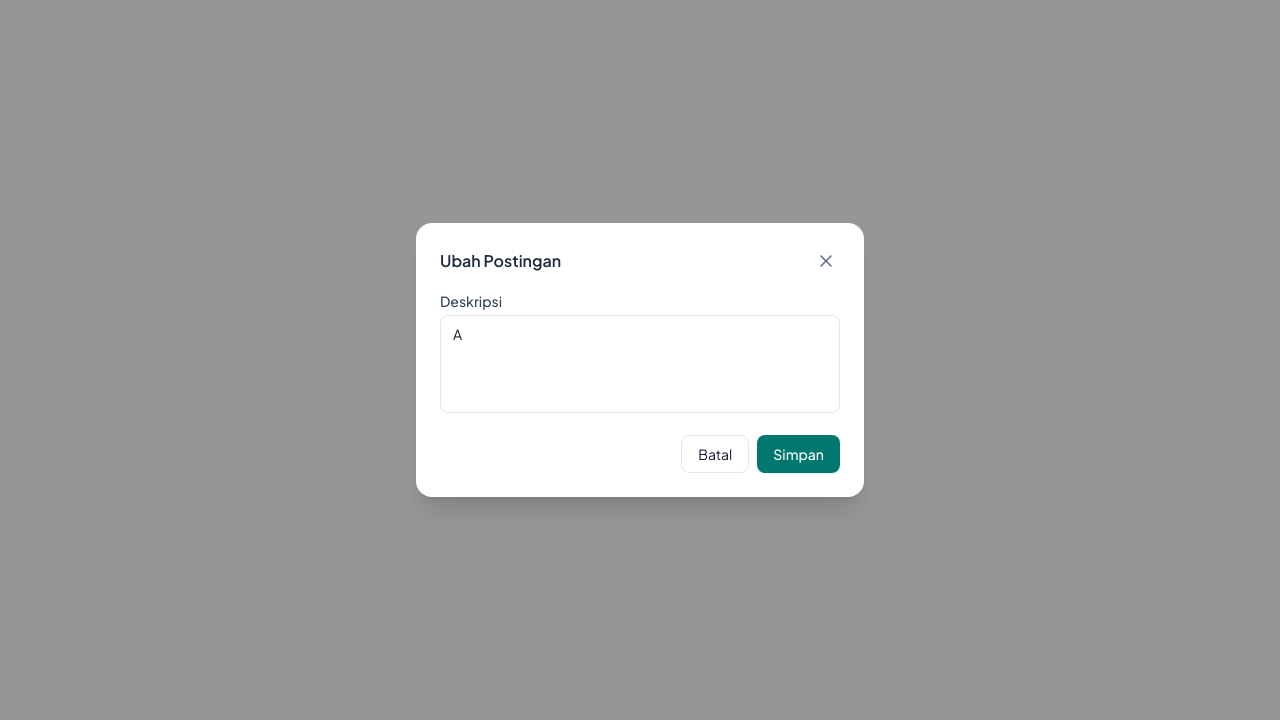
Test: ChangeModal › textarea dapat diedit
The image size is (1280, 720).
Type "BC" into the text box at x=640, y=364, box [440, 315, 840, 413]
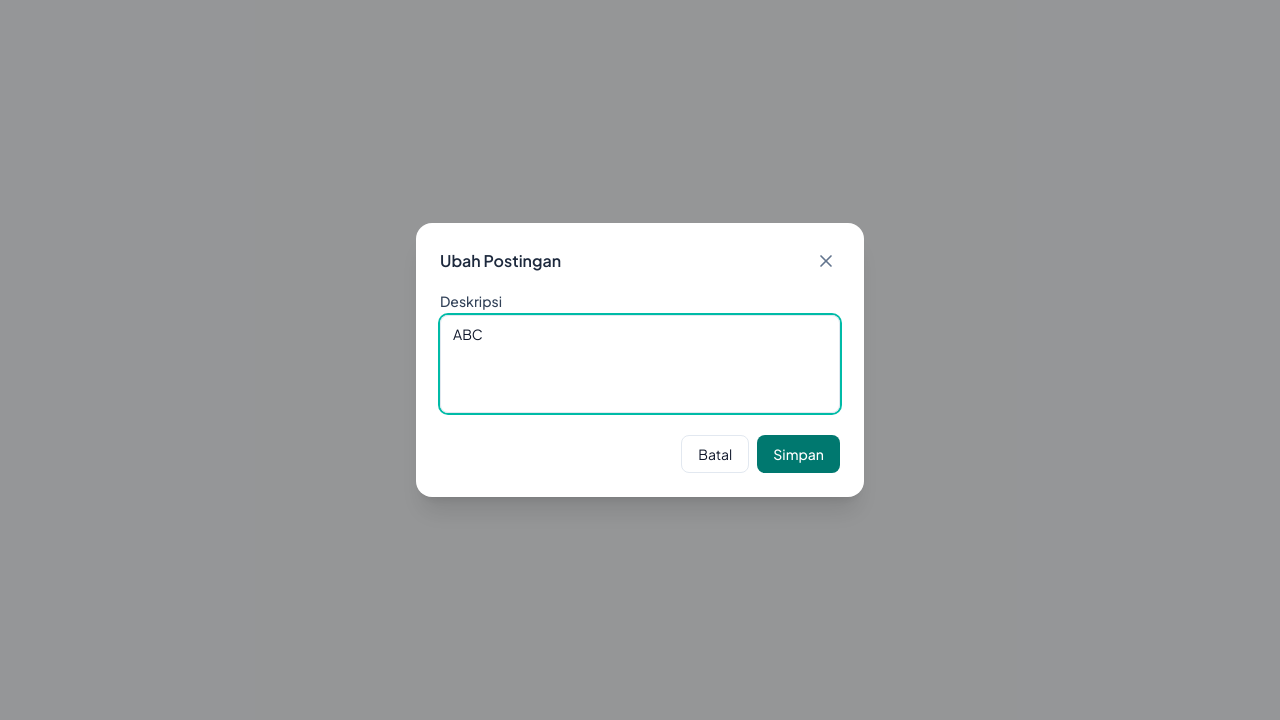
Expected: the text box holds "ABC", [440, 315, 840, 413]
